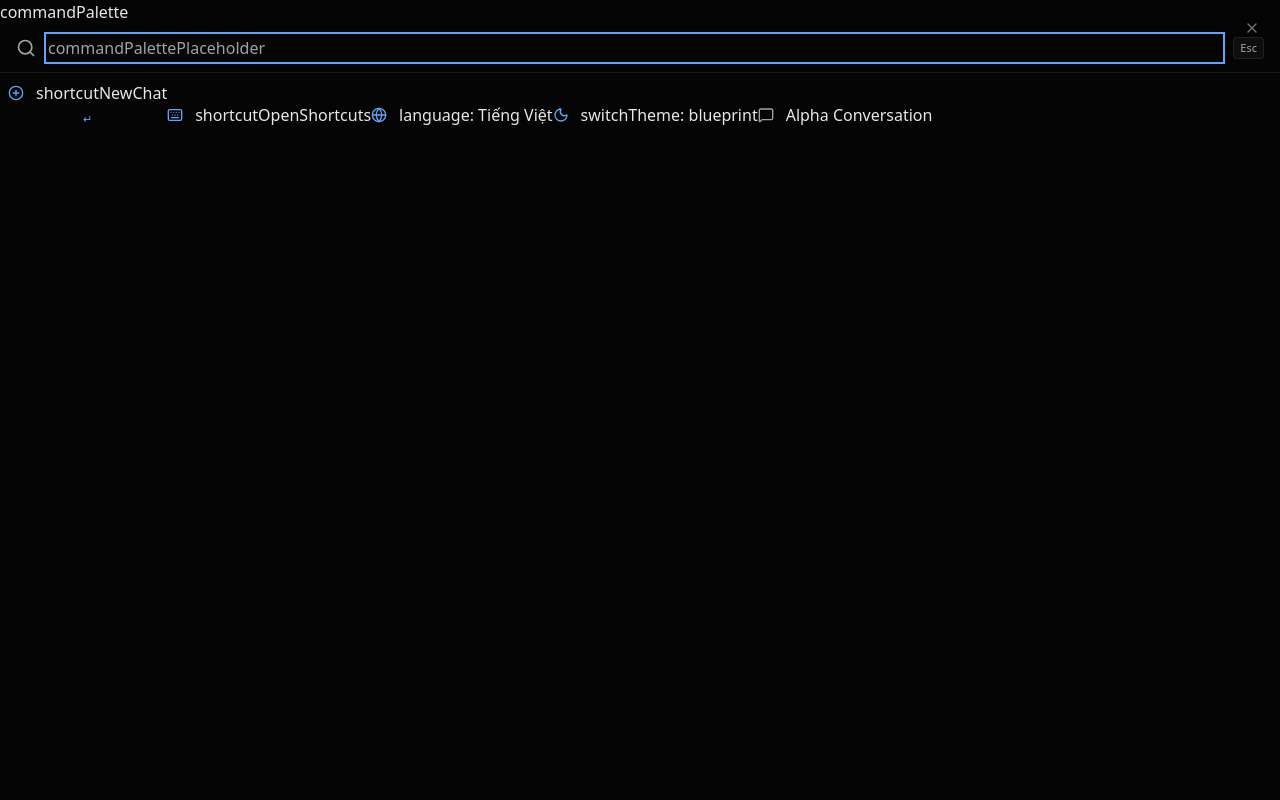
it: CommandPalette › filters items based on user query
Type "Alpha" into the field with placeholder "commandPalettePlaceholder".
click(635, 48); type("Alpha")  # box [48, 36, 1221, 60]
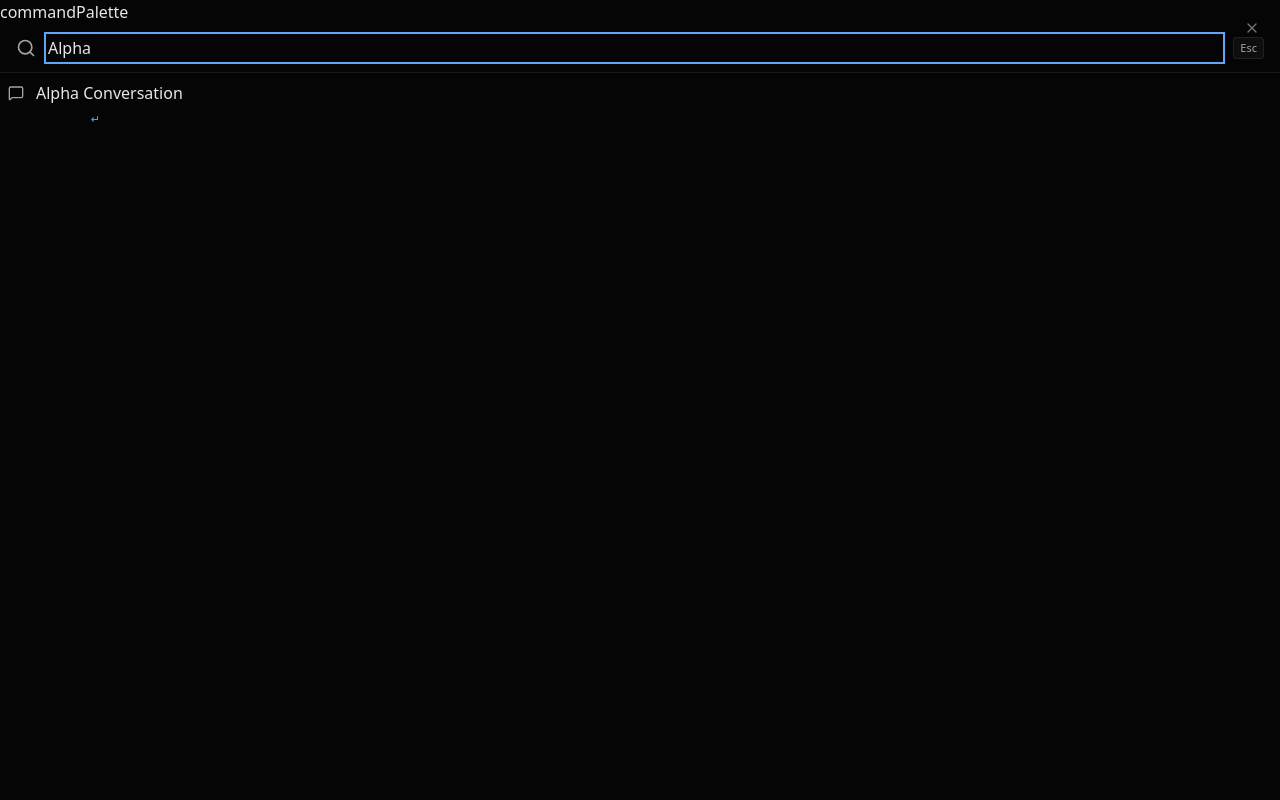
Expected: the text "Alpha Conversation" is shown, [36, 81, 183, 105]
Now the button "shortcutNewChat" is gone
